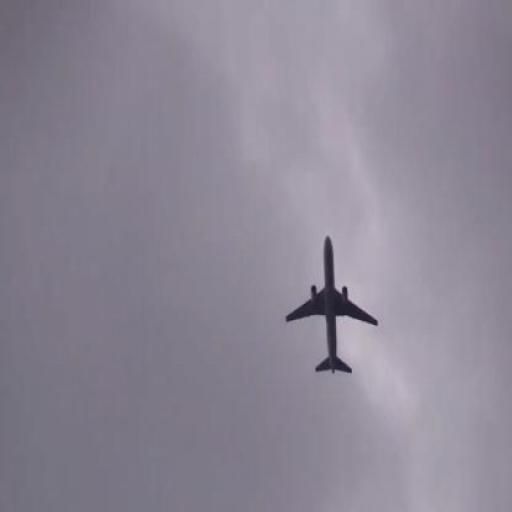aircraft: (286, 235, 379, 374)
